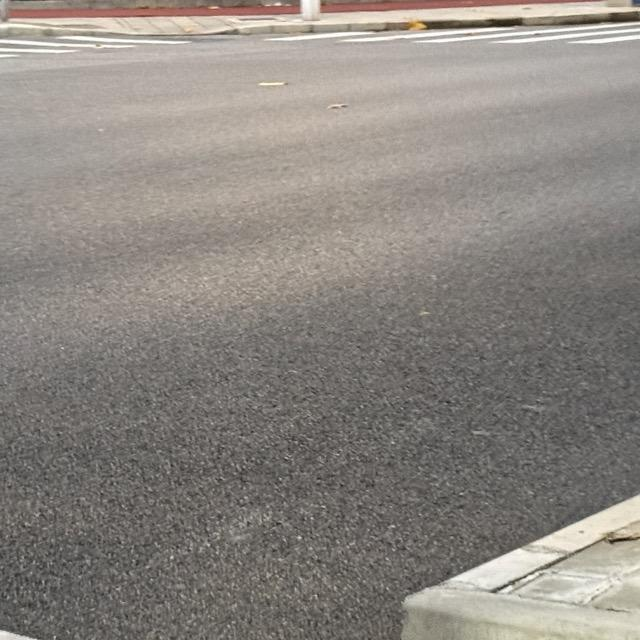curb: (401, 495, 639, 639), (220, 11, 639, 34), (0, 23, 57, 38)
